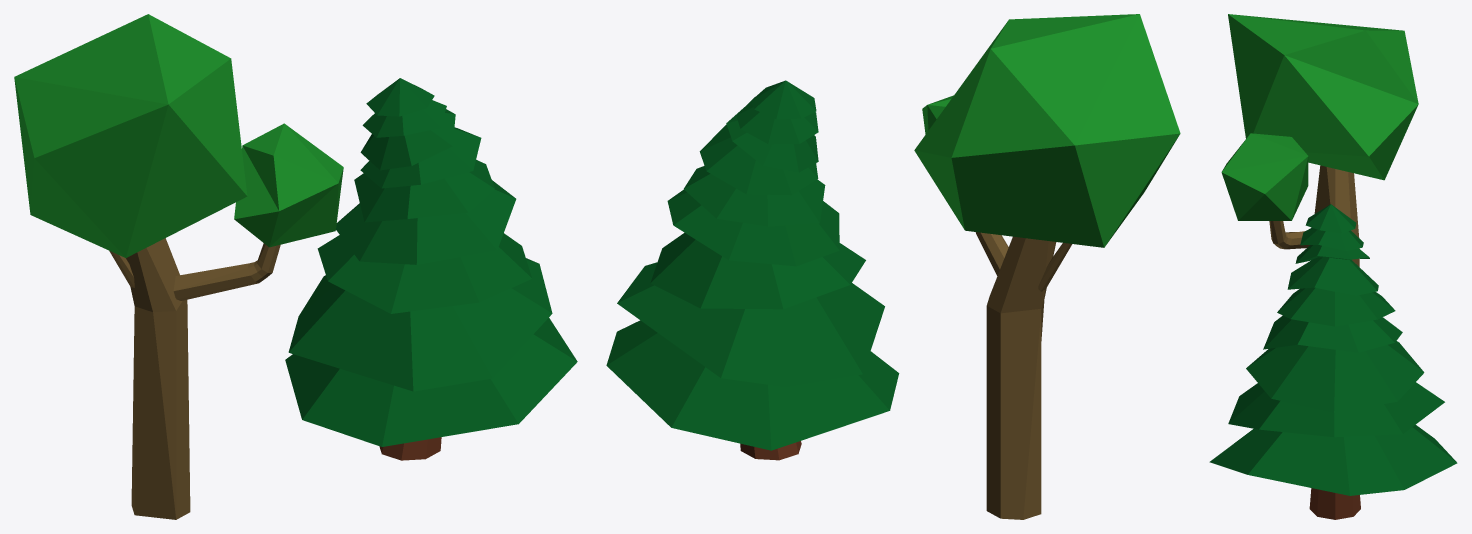
Rendered from tree3.fbx.
The picture shows the model from 3 angles, left to right: view 1: azimuth 30°, elevation 25°; view 2: azimuth 150°, elevation 25°; view 3: azimuth 270°, elevation 25°; orthographic projection. The views are drawn at different scales.
Parts seen in each view (by area): view 1: Cone.001, Icosphere, Cylinder, Cylinder.001; view 2: Cone.001, Icosphere, Cylinder, Cylinder.001; view 3: Cone.001, Icosphere, Cylinder, Cylinder.001.
Boxes of the visible parts, x1=… form: Cone.001: x1=285, y1=78, x2=577, y2=446; Icosphere: x1=14, y1=14, x2=343, y2=257; Cylinder: x1=109, y1=238, x2=280, y2=519; Cylinder.001: x1=379, y1=437, x2=441, y2=460; Cone.001: x1=606, y1=80, x2=899, y2=450; Icosphere: x1=914, y1=14, x2=1180, y2=247; Cylinder: x1=975, y1=232, x2=1072, y2=519; Cylinder.001: x1=740, y1=441, x2=801, y2=460; Cone.001: x1=1209, y1=204, x2=1457, y2=495; Icosphere: x1=1221, y1=14, x2=1418, y2=220; Cylinder: x1=1269, y1=165, x2=1359, y2=266; Cylinder.001: x1=1309, y1=488, x2=1360, y2=519.
Bounding box in the file's own units: 378 × 319 × 187.
